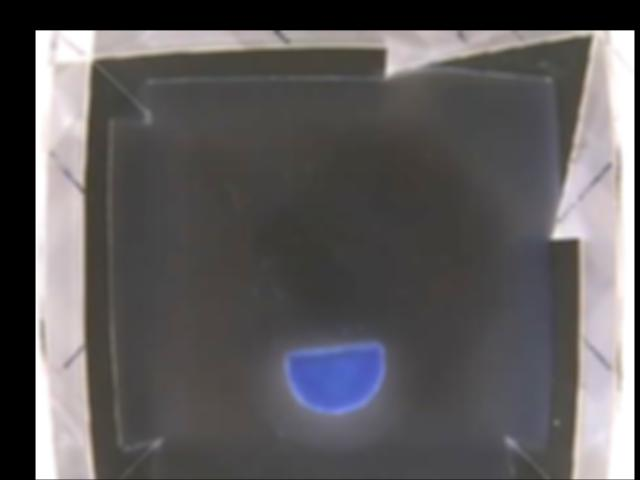Potato: (283, 339, 387, 413)
